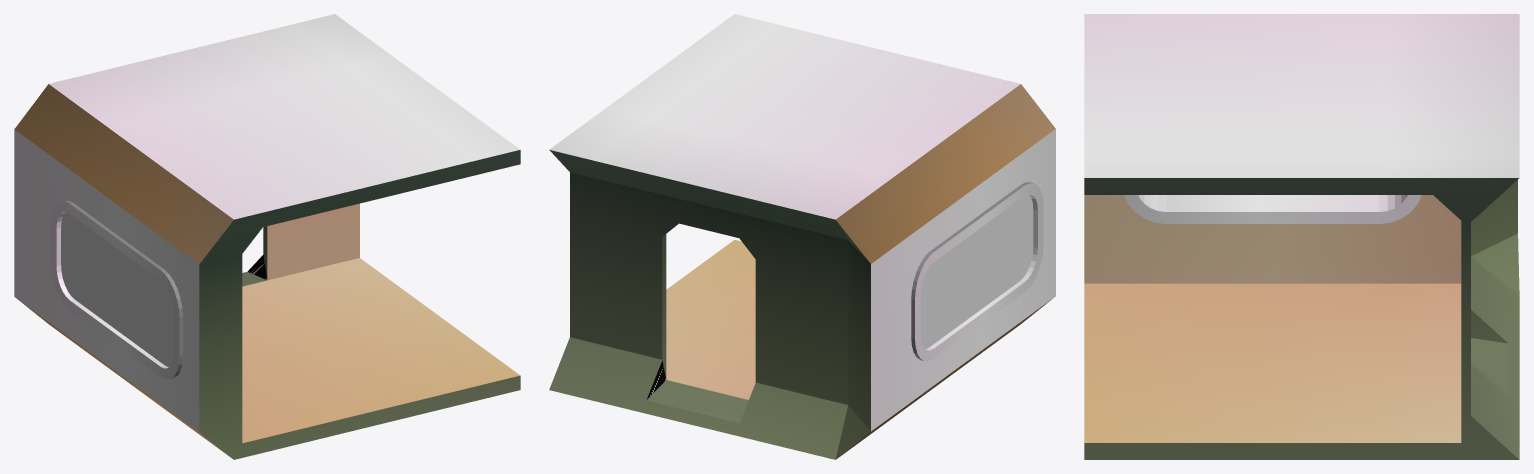
The model's file is R_OutWall_CornerDoor_Window_R.fbx.
The picture shows the model from 3 angles, left to right: view 1: azimuth 30°, elevation 25°; view 2: azimuth 150°, elevation 25°; view 3: azimuth 270°, elevation 25°; orthographic projection. The views are drawn at different scales.
Visible parts, largest first — view 1: R_OutWall_CornerDoor_Window_R; view 2: R_OutWall_CornerDoor_Window_R; view 3: R_OutWall_CornerDoor_Window_R.
Part boxes in pixels (x1=…): R_OutWall_CornerDoor_Window_R: x1=14, y1=14, x2=520, y2=459; R_OutWall_CornerDoor_Window_R: x1=549, y1=14, x2=1055, y2=459; R_OutWall_CornerDoor_Window_R: x1=1084, y1=14, x2=1519, y2=459.
Bounding box in the file's own units: 467 × 330 × 462.
